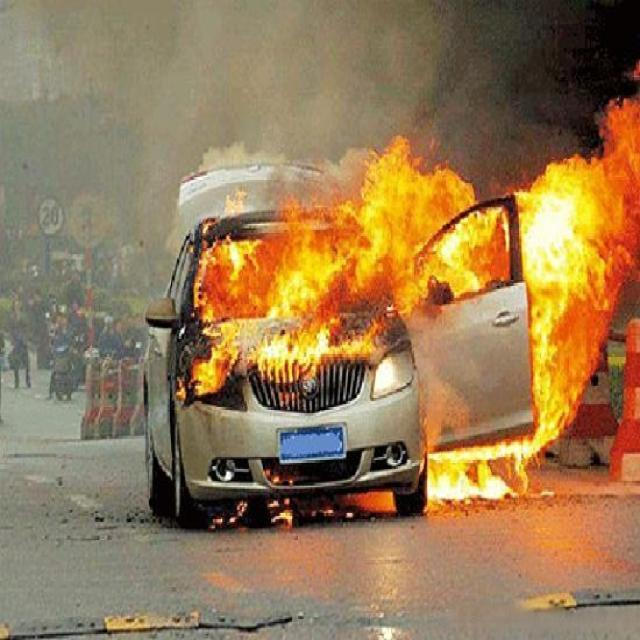fire: (187, 138, 510, 381), (522, 88, 640, 489), (426, 435, 518, 503)
